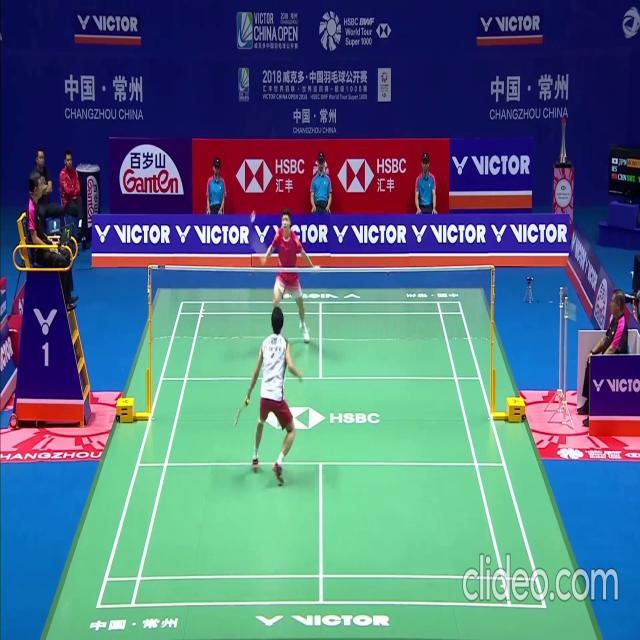Shuttlecock: (251, 214, 256, 221)
